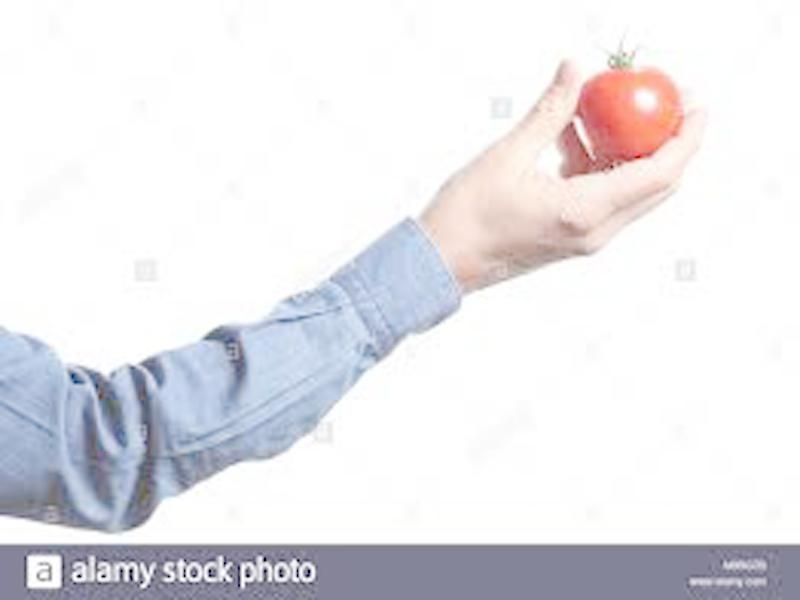Tomato: (580, 69, 684, 156)
